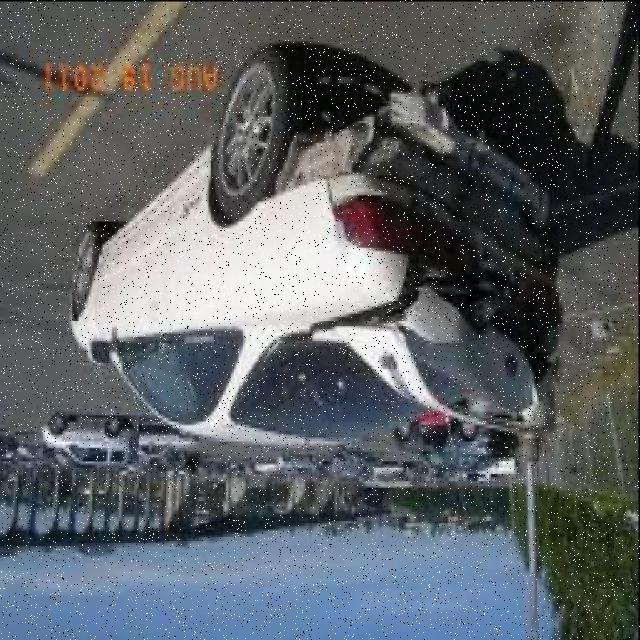damage: (255, 93, 563, 416)
